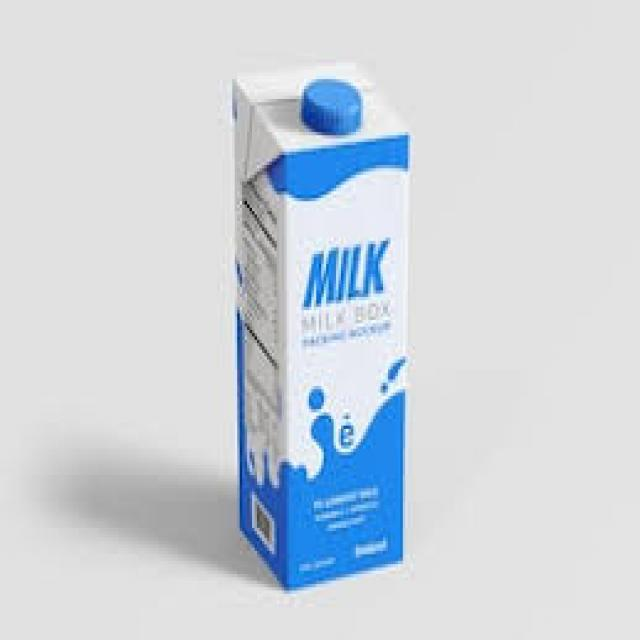non_white_jug: (224, 50, 414, 597)
